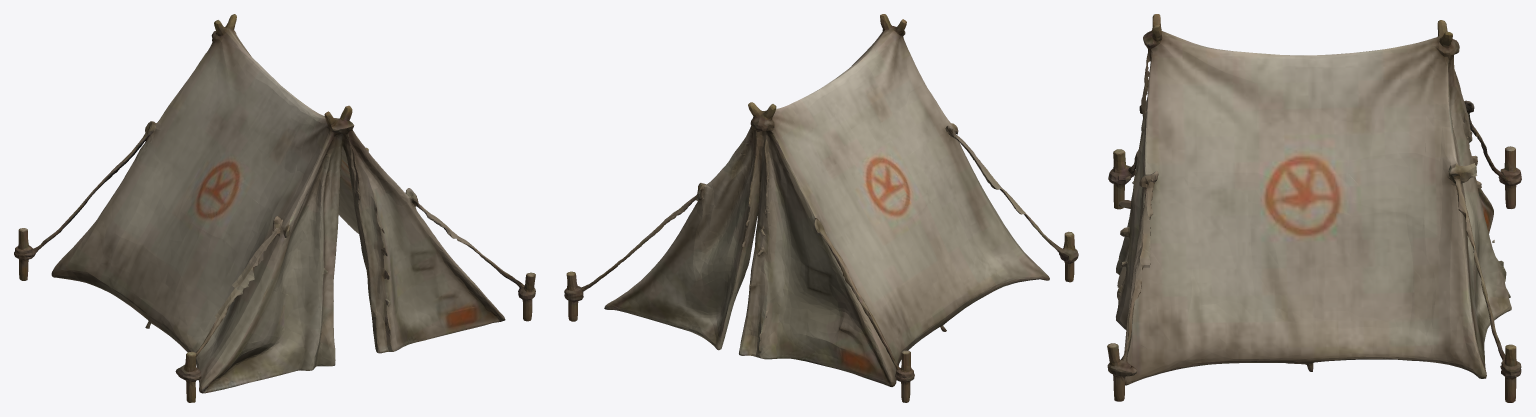
The model's file is tent.glb.
The picture shows the model from 3 angles, left to right: view 1: azimuth 30°, elevation 25°; view 2: azimuth 150°, elevation 25°; view 3: azimuth 270°, elevation 25°; orthographic projection. The views are drawn at different scales.
Visible parts, largest first — view 1: world; view 2: world; view 3: world.
Boxes of the visible parts, box(x1,y1,x2,y2) form: world: box(14, 14, 535, 402); world: box(564, 14, 1078, 402); world: box(1107, 14, 1521, 402).
Bounding box in the file's own units: 0.9978 × 0.6503 × 0.8617.
1 material, 1 textured.
